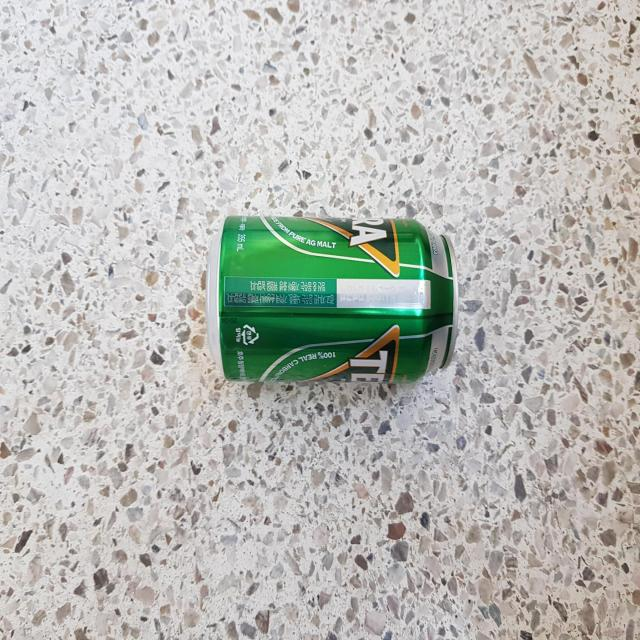can: (206, 216, 459, 383)
